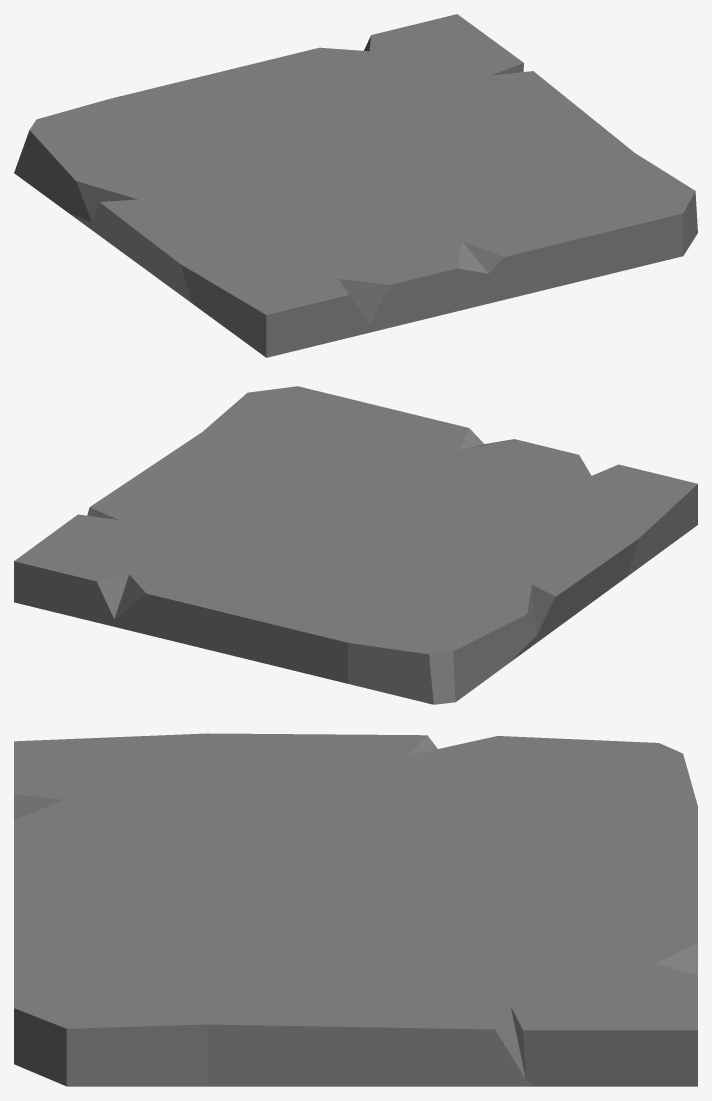
File: stone_1.fbx
3 renders of one model, top to bottom at view 1: azimuth 30°, elevation 25°; view 2: azimuth 150°, elevation 25°; view 3: azimuth 270°, elevation 25°, orthographic. The views are drawn at different scales.
Parts seen in each view (by area): view 1: stone_1; view 2: stone_1; view 3: stone_1.
Part boxes in pixels (left/top/right/bottom): stone_1: left=14, top=14, right=697, bottom=357; stone_1: left=14, top=386, right=697, bottom=704; stone_1: left=14, top=733, right=697, bottom=1086.
Bounding box in the file's own units: 485 × 45.9 × 473.
